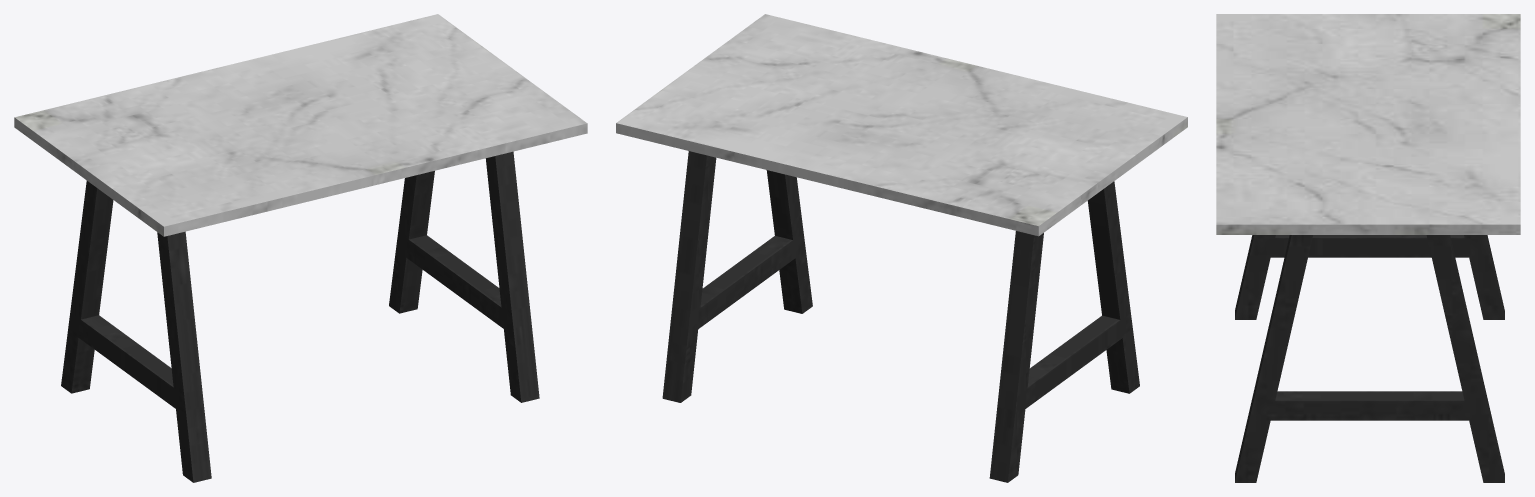
The model's file is Table10.glb.
The picture shows the model from 3 angles, left to right: view 1: azimuth 30°, elevation 25°; view 2: azimuth 150°, elevation 25°; view 3: azimuth 270°, elevation 25°; orthographic projection. The views are drawn at different scales.
Parts seen in each view (by area): view 1: Table10_model; view 2: Table10_model; view 3: Table10_model.
Boxes of the visible parts, x1,y1,x2,y2 form: Table10_model: (14, 14, 587, 482); Table10_model: (616, 14, 1187, 482); Table10_model: (1216, 14, 1520, 482).
Bounding box in the file's own units: 2.59 × 1.59 × 1.58.
1 material, 1 textured.
